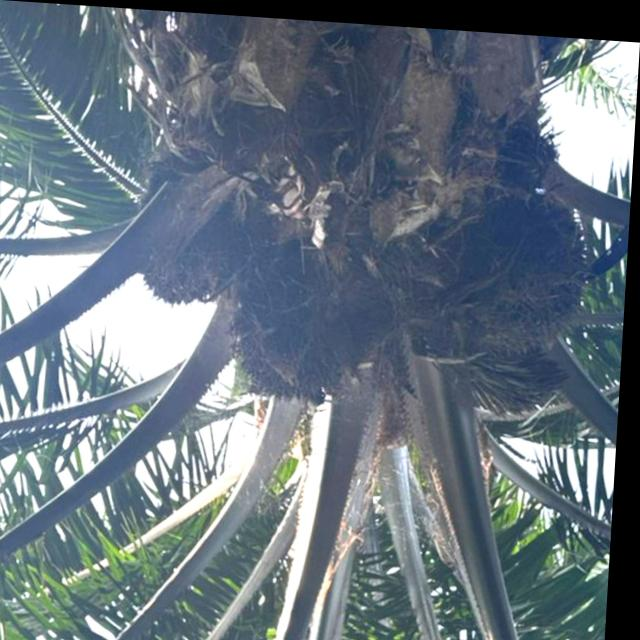unripe: (222, 254, 373, 413), (136, 206, 241, 315)
